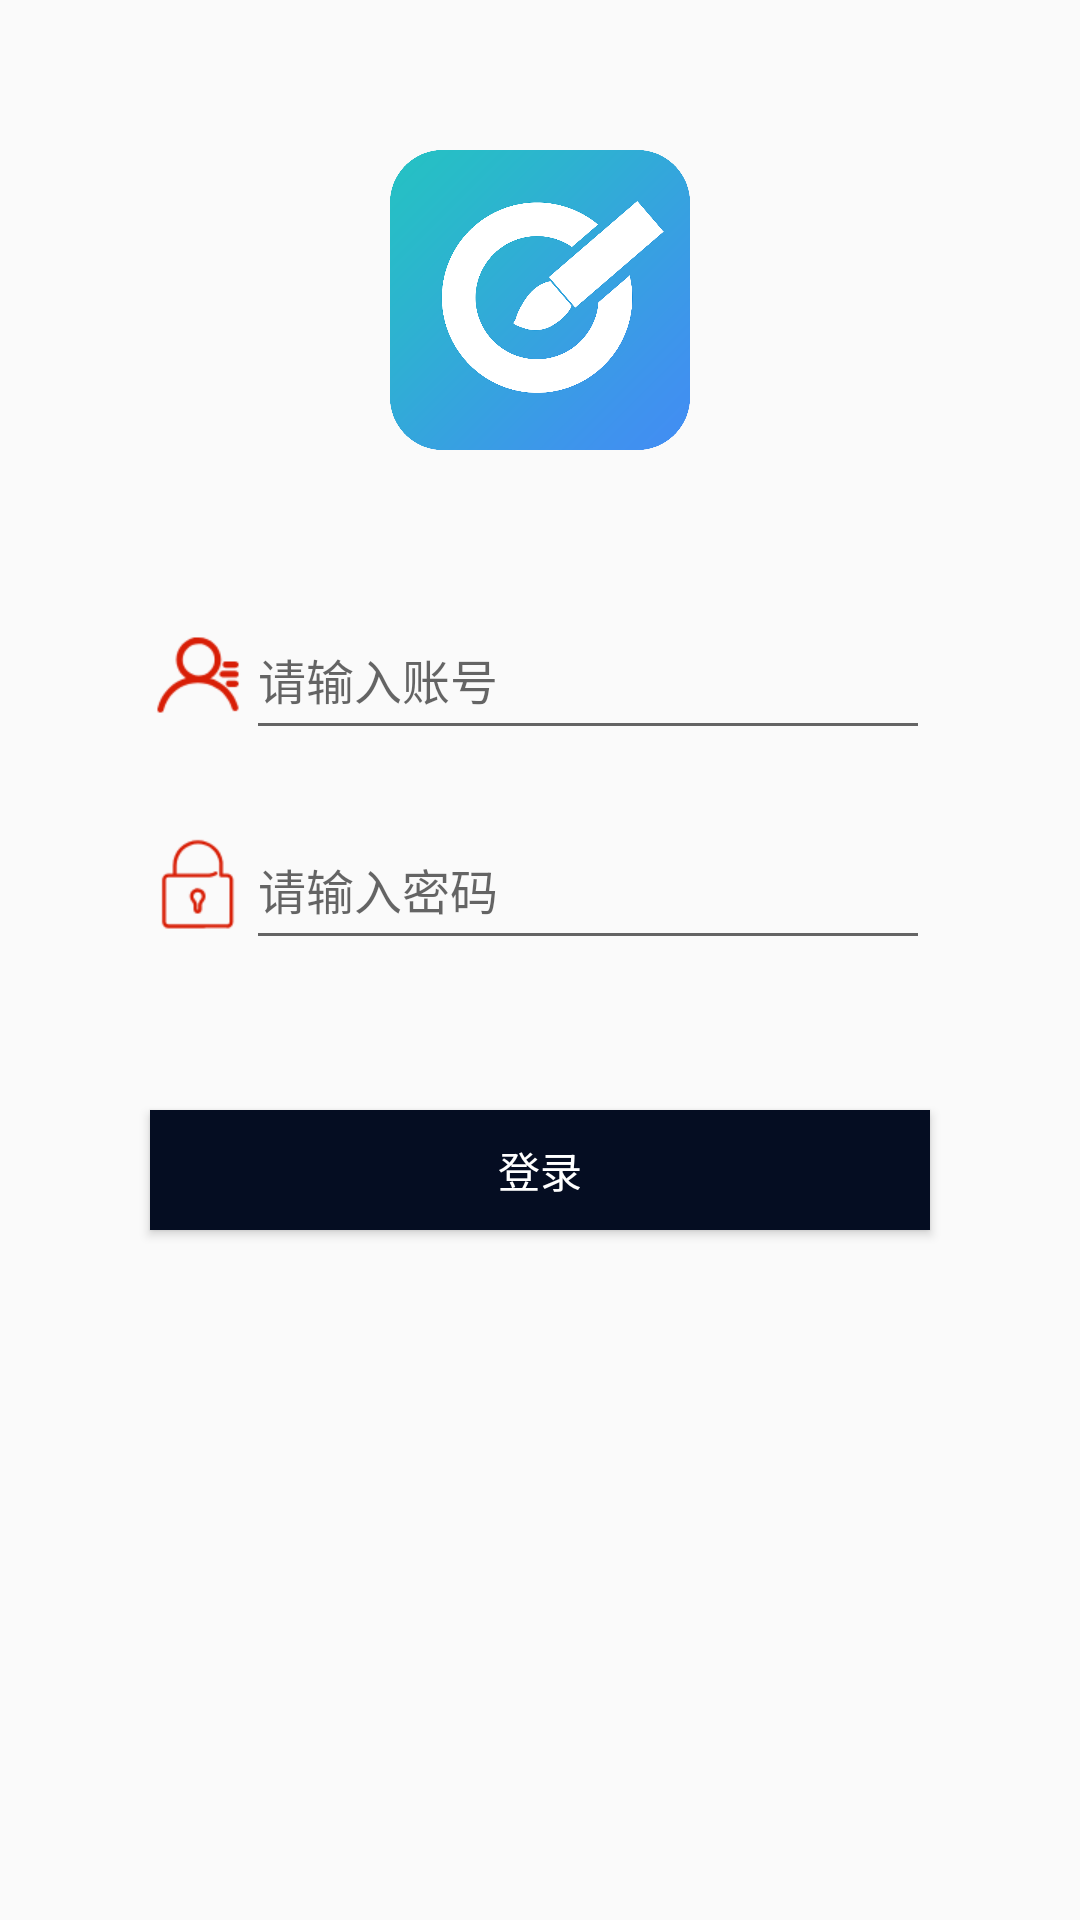

Where icons sit on this 1080px x 1920px app screen, as (x1, y1, x2, y2):
account: (157, 637, 239, 713)
